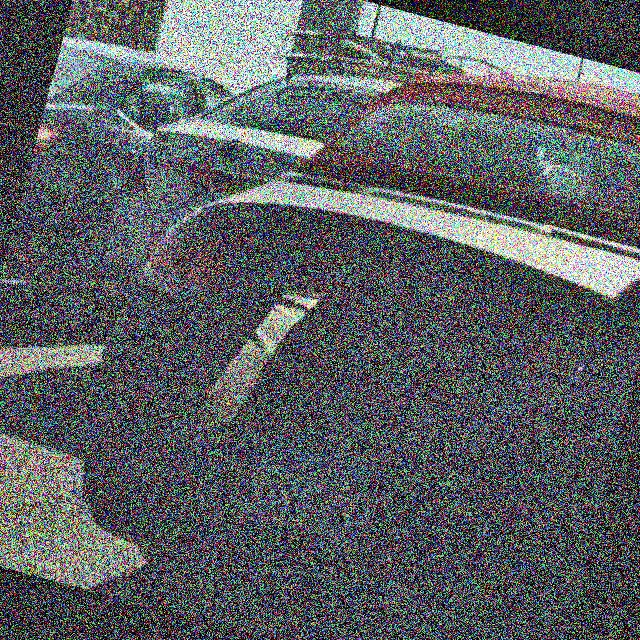License Plate: (223, 415, 393, 557)
